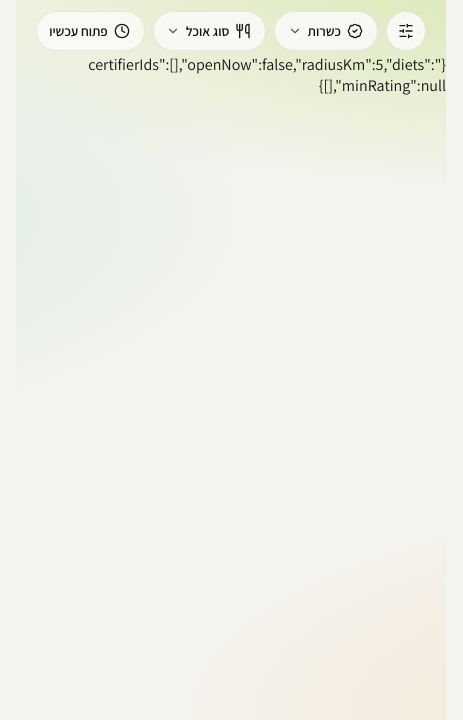
Scenario: filter bar › toggles open-now in place, and the sliders button counts it
Click the button "פתוח עכשיו" at (90, 31), box left=36, top=11, right=145, bottom=51
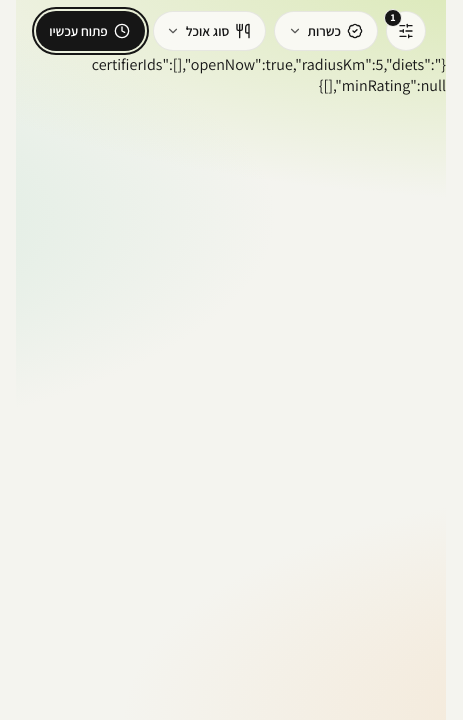
Result: the button named "סינון פעיל" reads "1" at left=386, top=11, right=426, bottom=51
